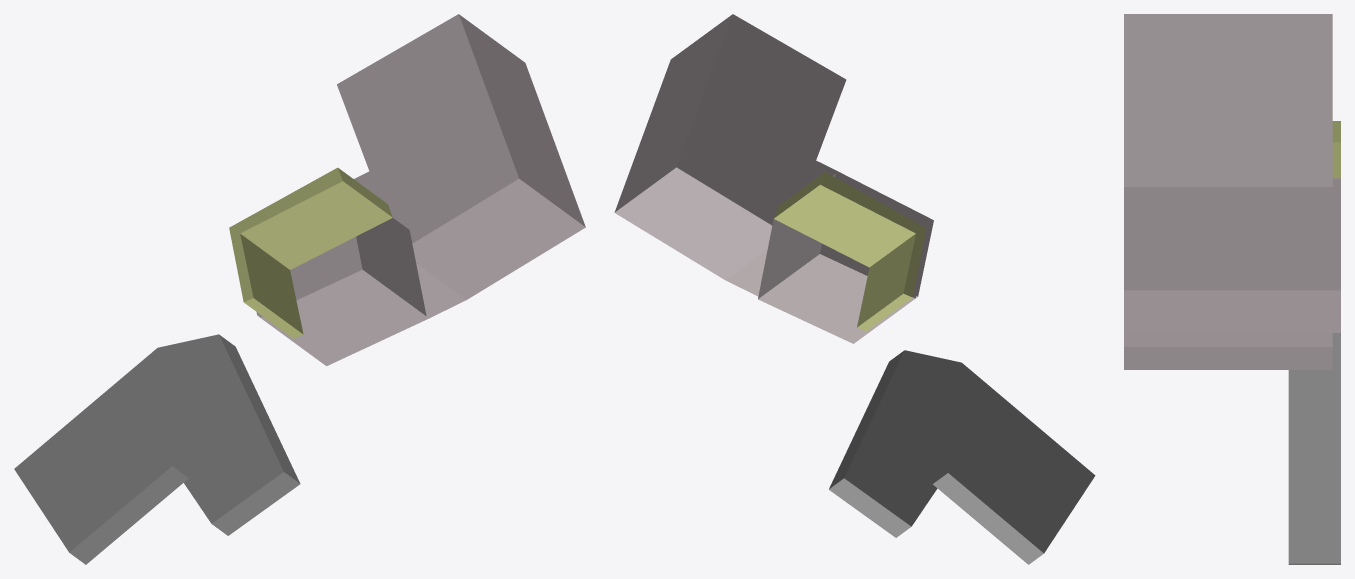
3 views of the same model, side by side, from view 1: azimuth 30°, elevation 25°; view 2: azimuth 150°, elevation 25°; view 3: azimuth 270°, elevation 25° (orthographic). The views are drawn at different scales.
Parts seen in each view (by area): view 1: 0_1_2_0_0_2_0_1_3; view 2: 0_1_2_0_0_2_0_1_3; view 3: 0_1_2_0_0_2_0_1_3.
Boxes of the visible parts, bbox=[...] form: 0_1_2_0_0_2_0_1_3: bbox=[14, 14, 585, 564]; 0_1_2_0_0_2_0_1_3: bbox=[614, 14, 1095, 564]; 0_1_2_0_0_2_0_1_3: bbox=[1124, 14, 1340, 564].
Bounding box in the file's own units: 52.19 × 44.88 × 12.48.
